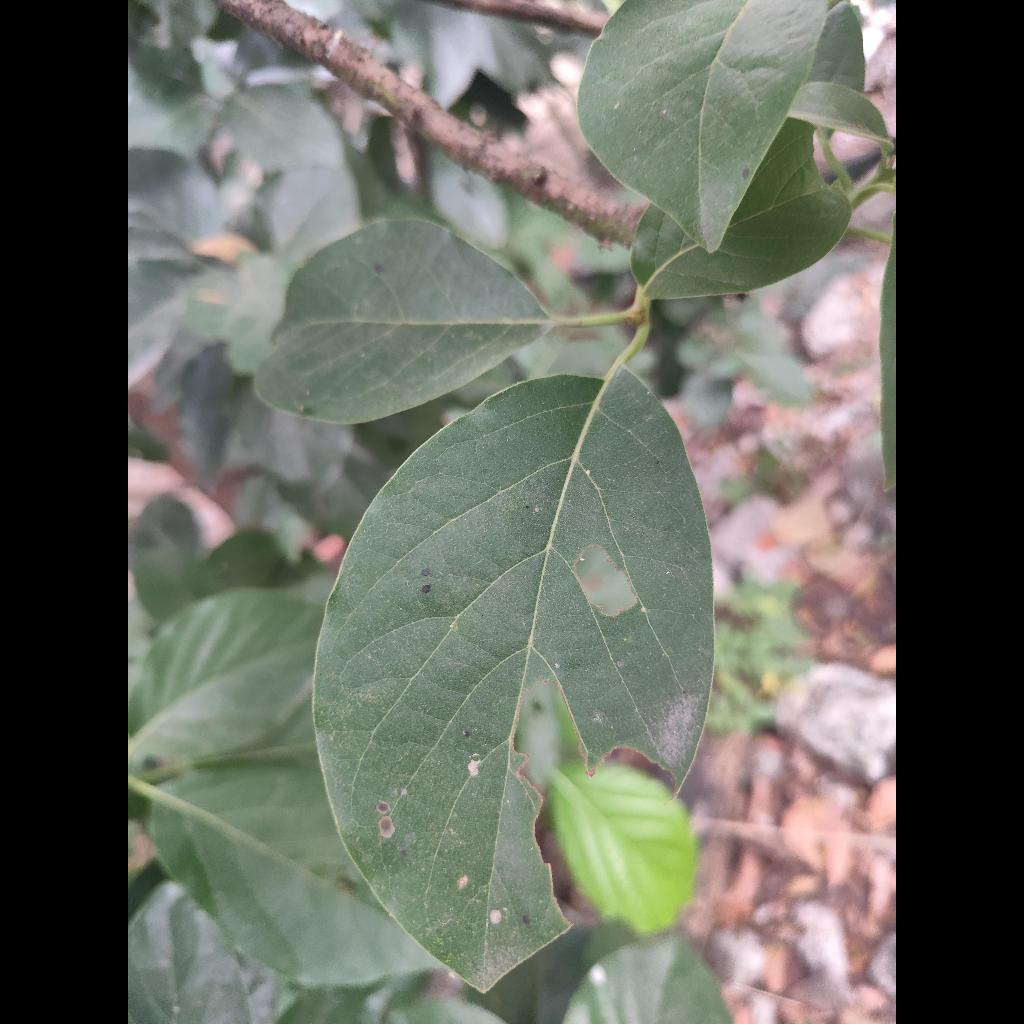Pest Infested: (314, 363, 713, 989)
